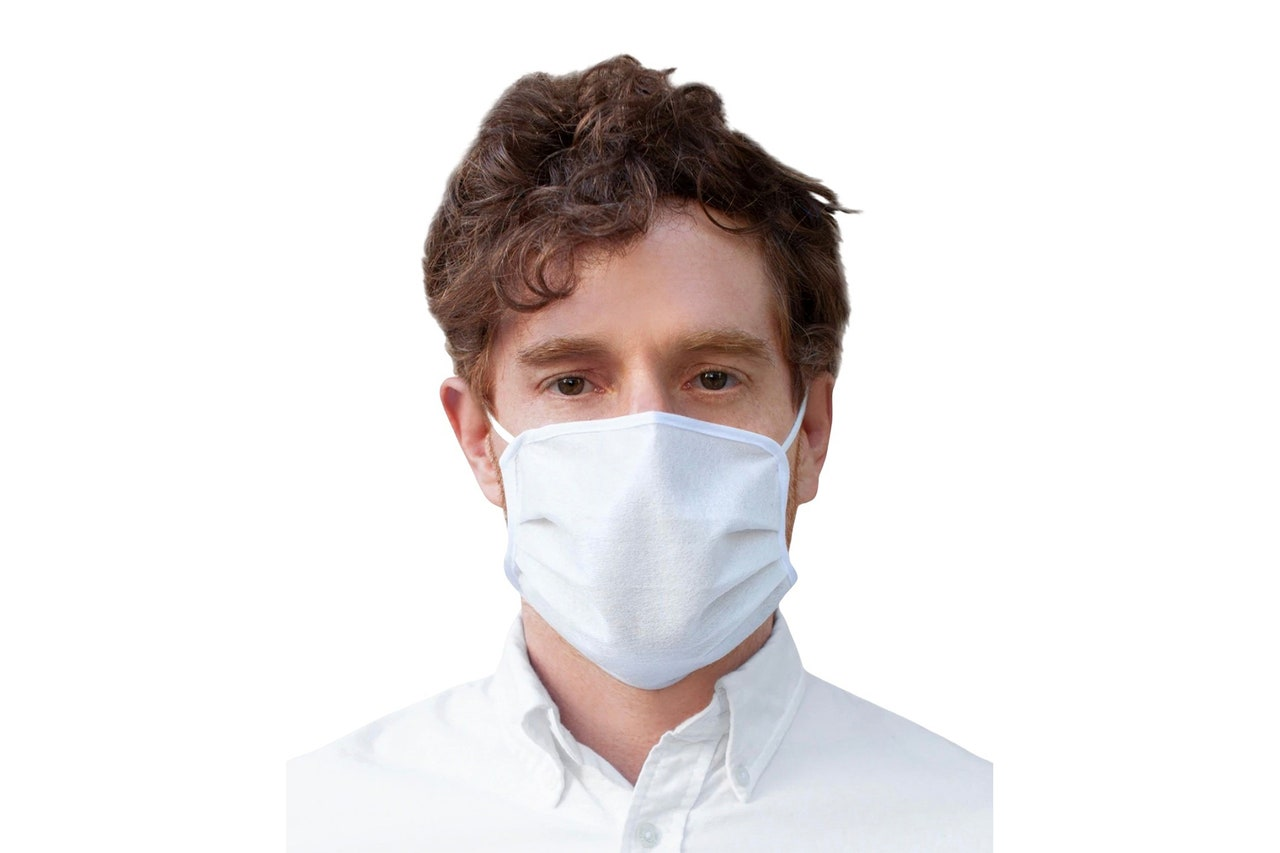Mask: (444, 408, 852, 688)
